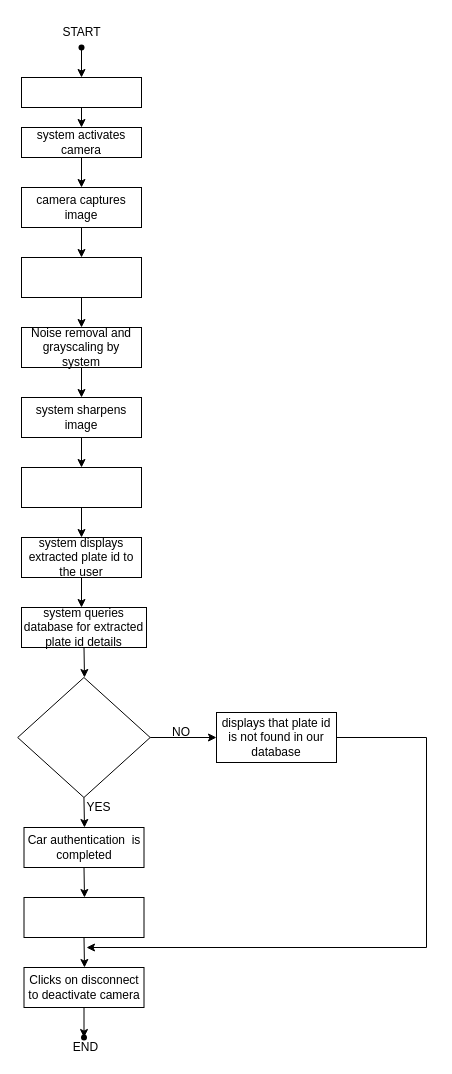
Image size: 452x1074. Some labels were removed from this diagram. Here are the shapes that lost their labels. From the top down, the centre of each, then its label:
the point at 81,92: Clicks on connect button
the point at 81,277: Draws contours for plate region of interest
the point at 81,487: system extracts characters from region of interest
the point at 83,737: Is the plate id iin the database?
the point at 83,917: displays plate id respective details to UI
